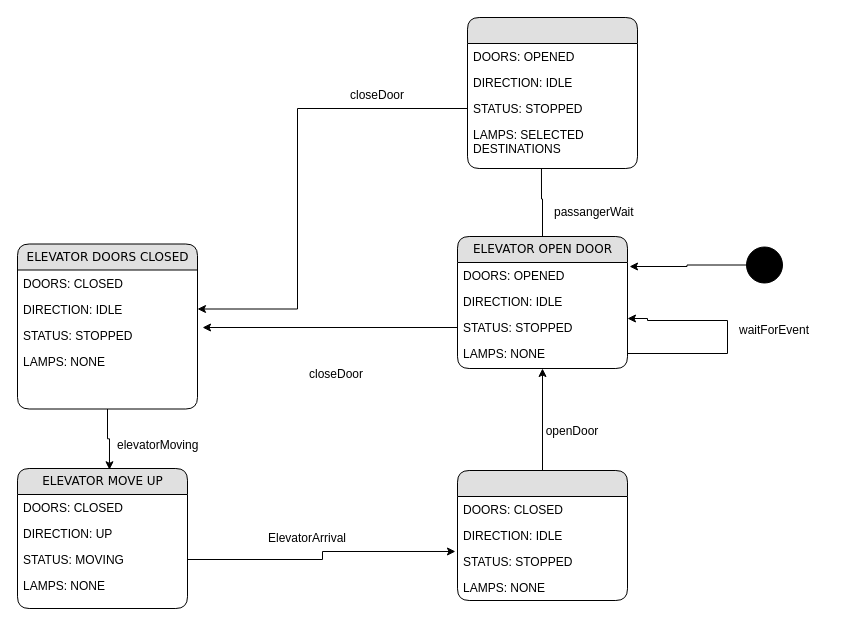
Some shapes in this 845 by 626 pixel diagram are drawn without their labels. Each missing label, with the box of its shape:
ELEVATOR ARRIVAL: (456, 470, 628, 600)
LOAD PASSANGERS: (466, 16, 638, 168)
